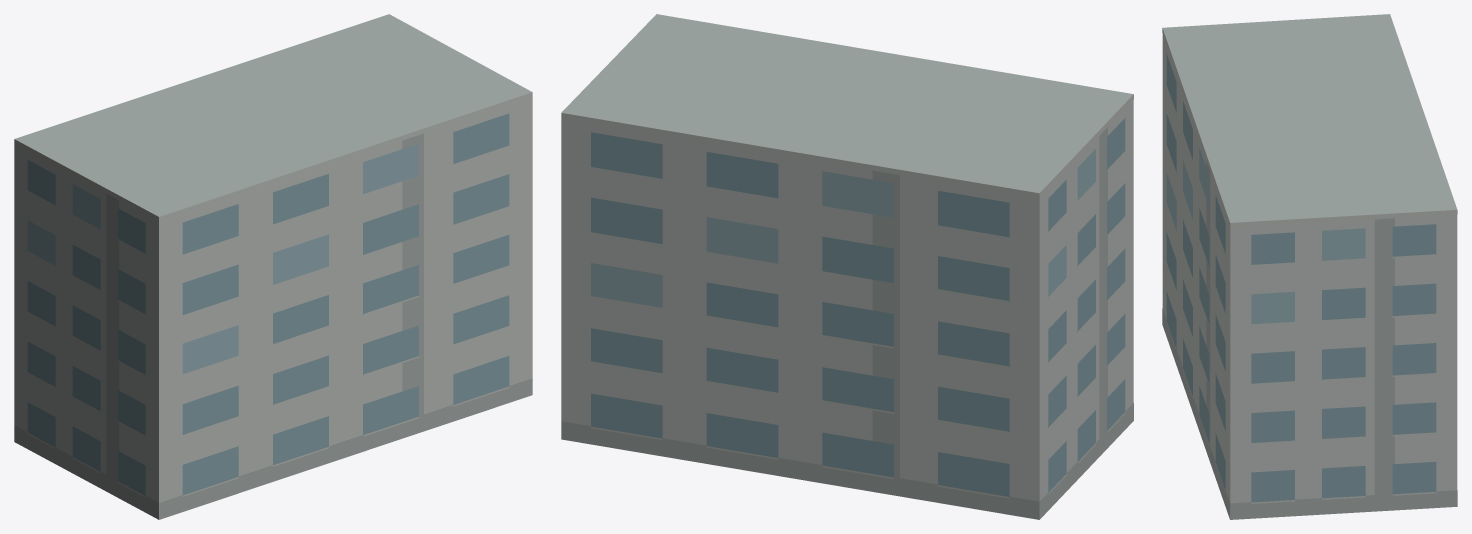
Rendered from survey-upis-32978540.glb.
The picture shows the model from 3 angles, left to right: view 1: azimuth 30°, elevation 25°; view 2: azimuth 150°, elevation 25°; view 3: azimuth 270°, elevation 25°; orthographic projection. The views are drawn at different scales.
Parts seen in each view (by area): view 1: survey-upis-32978540.tmp; view 2: survey-upis-32978540.tmp; view 3: survey-upis-32978540.tmp.
Boxes of the visible parts, x1,y1,x2,y2 form: survey-upis-32978540.tmp: (14, 14, 532, 519); survey-upis-32978540.tmp: (561, 14, 1133, 519); survey-upis-32978540.tmp: (1162, 14, 1457, 519).
Bounding box in the file's own units: 22.19 × 14.7 × 13.25.
